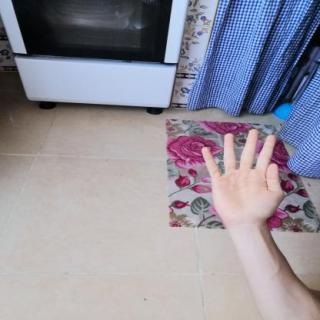SHEEN: (196, 124, 292, 228)
